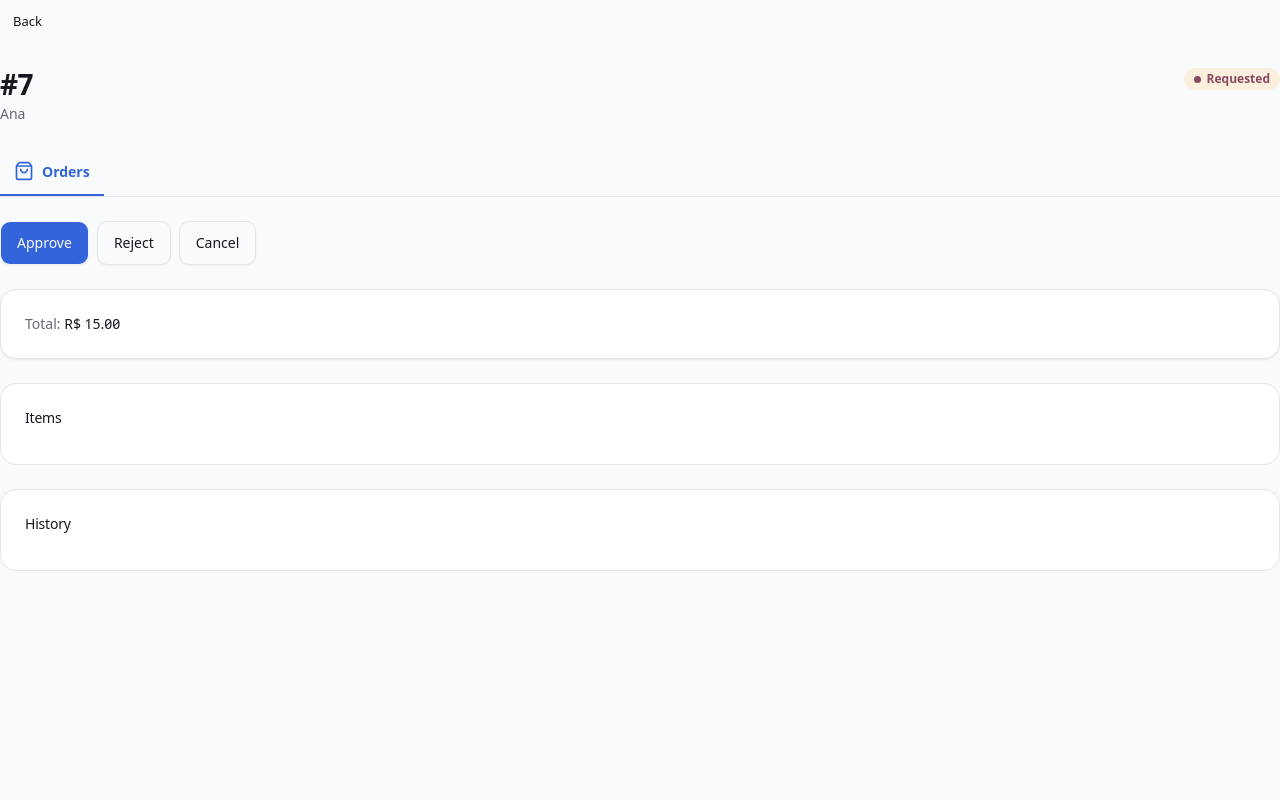
Test: staff order detail › localizes invalid reasons in en
Step 1. Click the button "Reject" → coordinates (134, 243), box [97, 221, 171, 265]
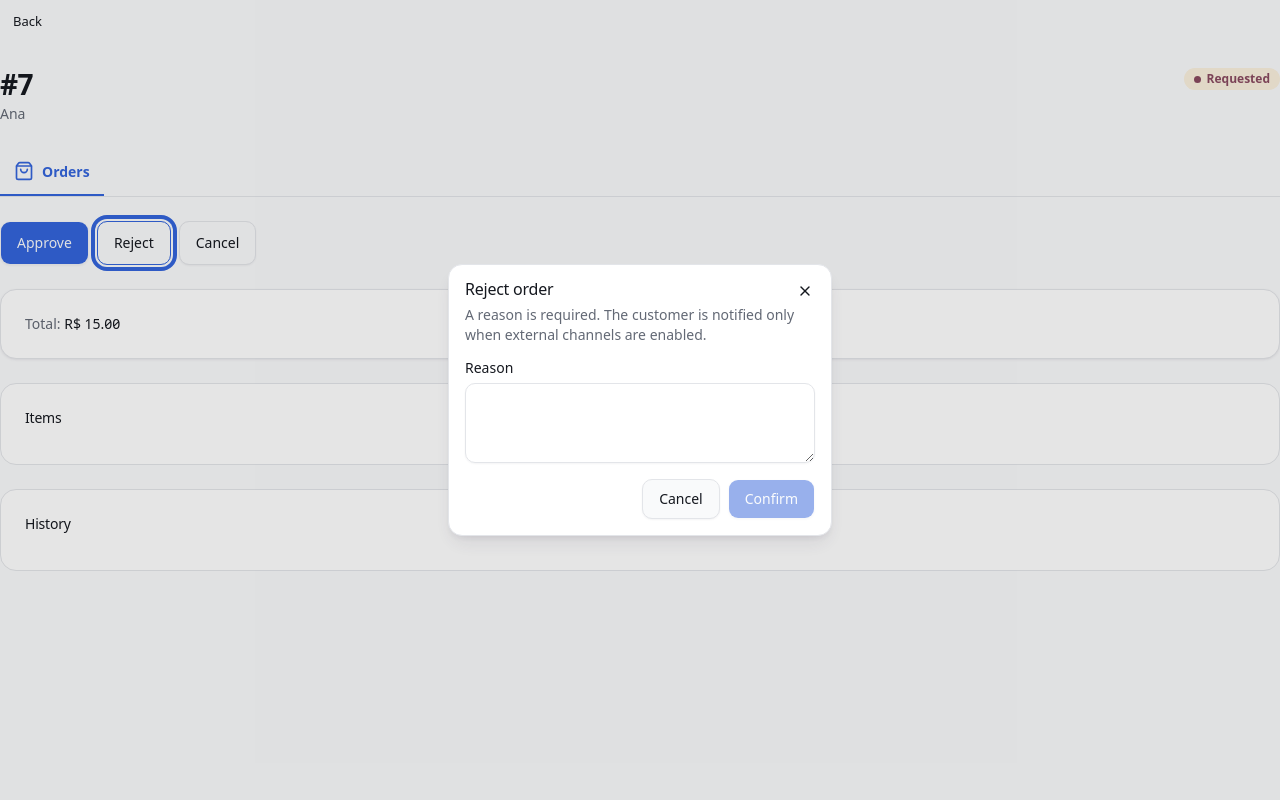
Step 2. Submit the form, box [465, 361, 815, 519]
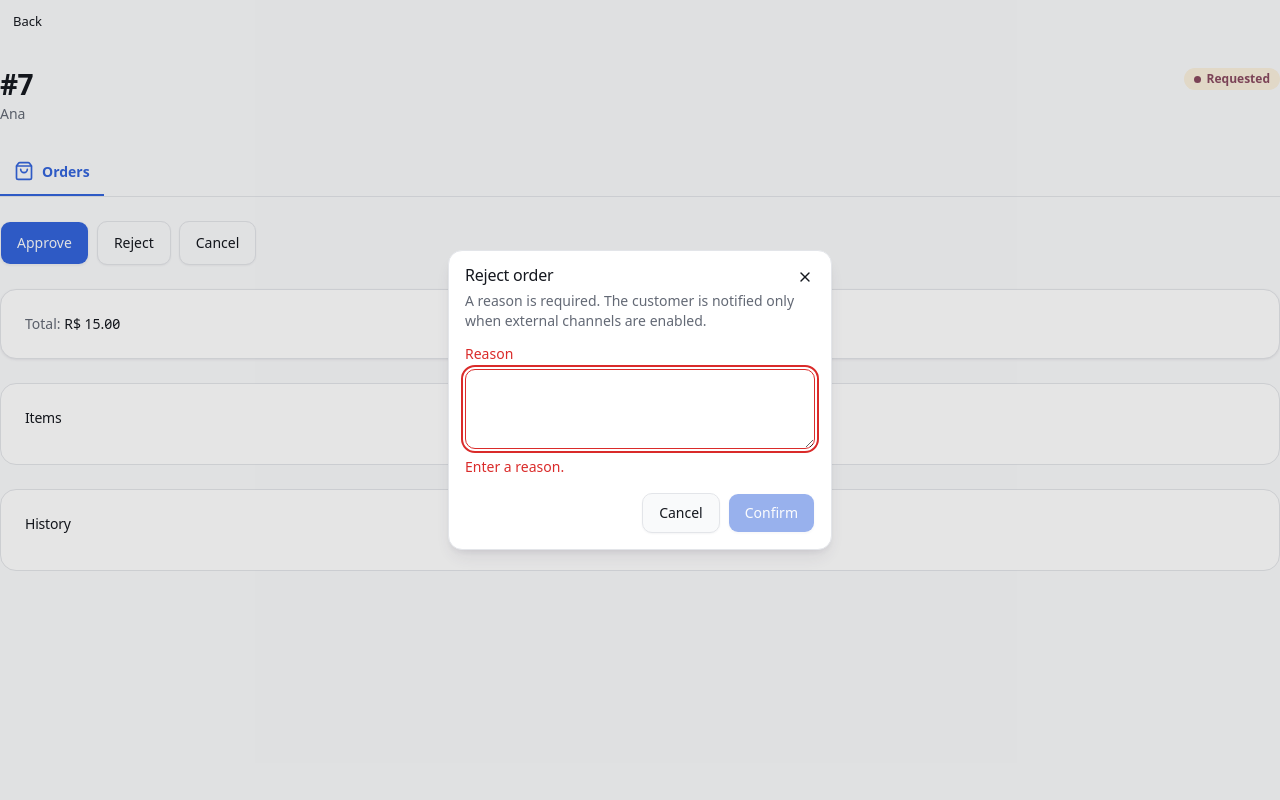
Expected: the text "Enter a reason." is shown, [465, 457, 564, 476]
